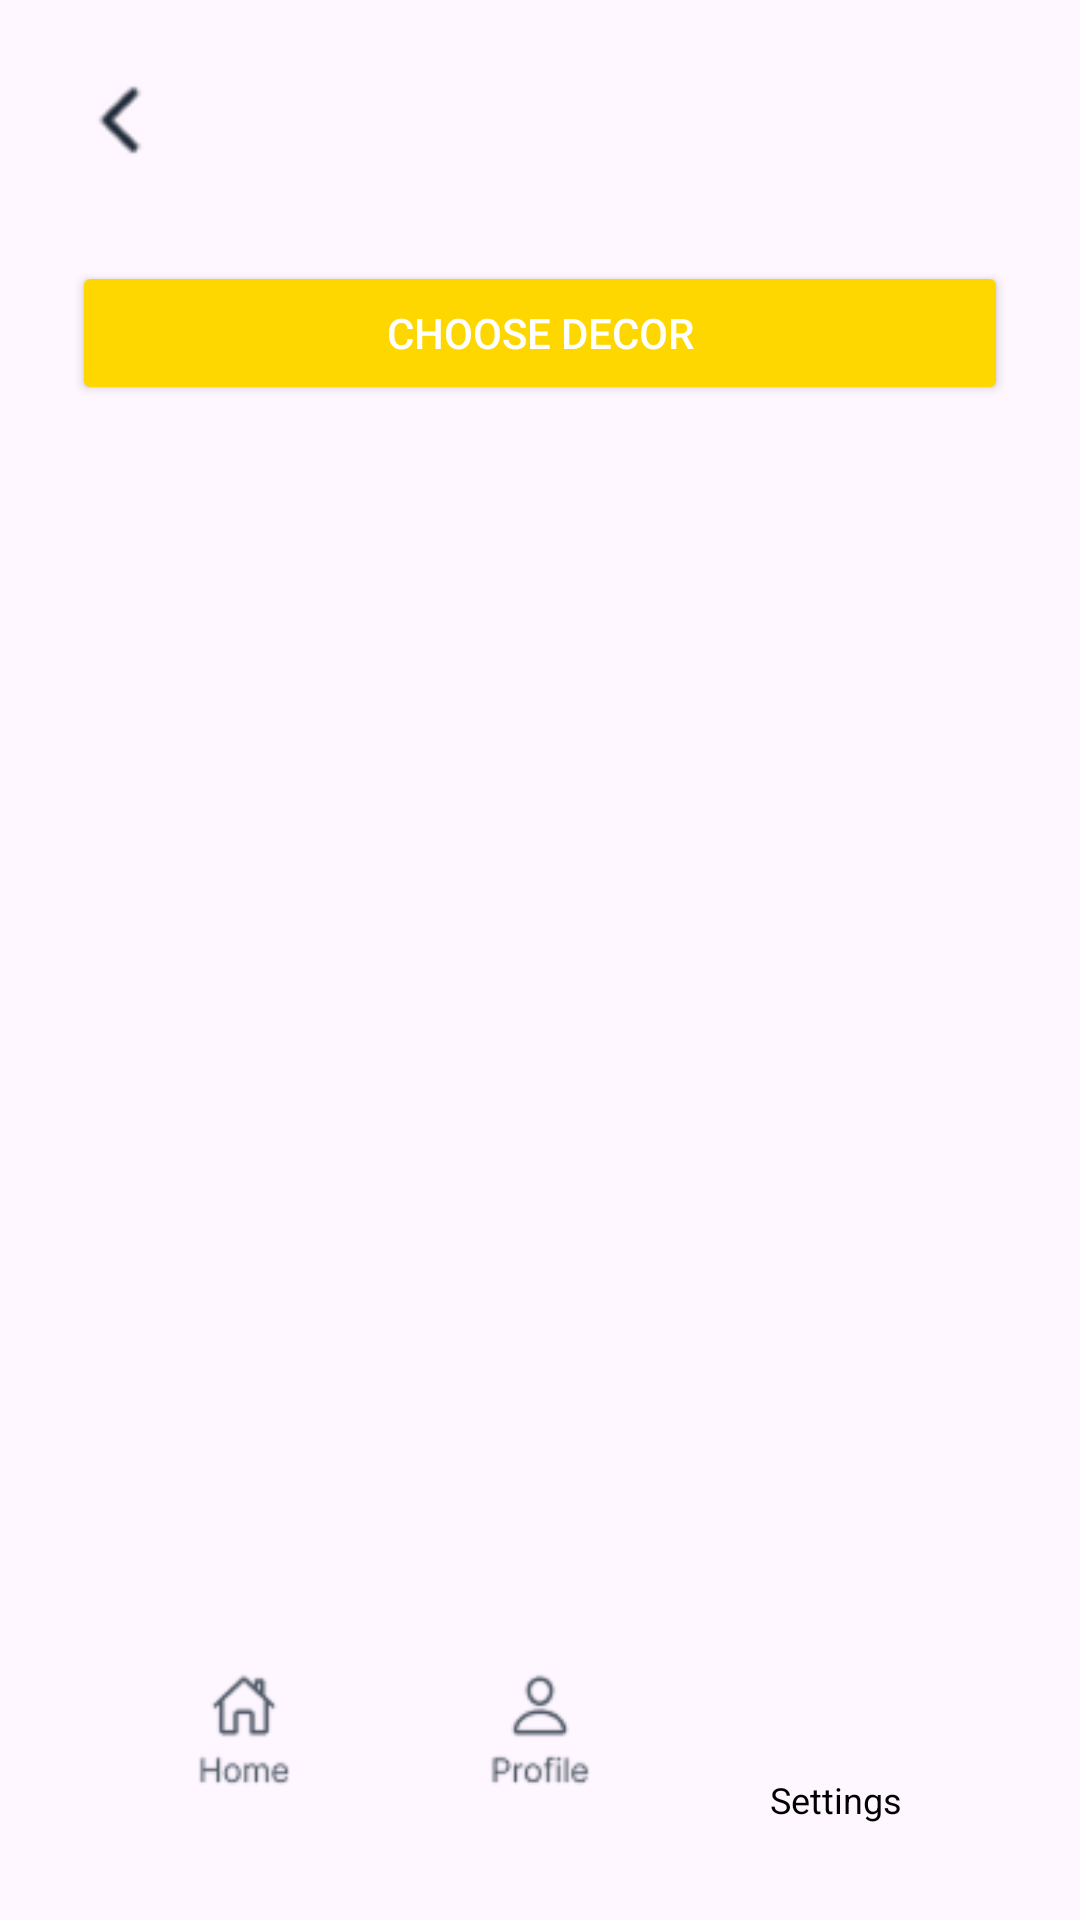

Icon bounding boxes for this 1080w x 1920h phone screenshot, format region(x1, y1, x2, y2):
Back: region(99, 86, 141, 154)
